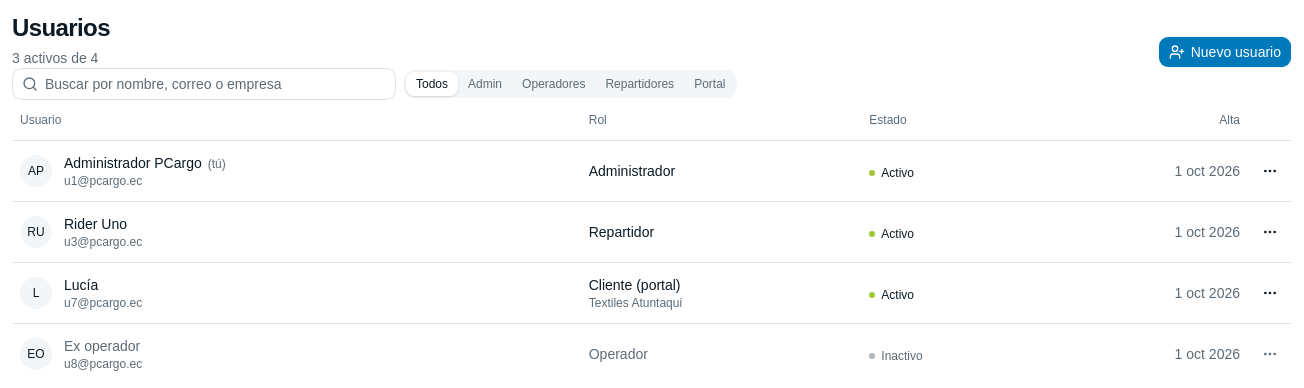
Test: UsuariosPage › lista los usuarios con rol, empresa del portal y estado, y filtra por rol
Expected: the text "Cliente (portal)" is shown, [589,276,680,292]
Expected: the text "Textiles Atuntaqui" is shown, [589,296,682,310]
Click the tab "Repartidores" at (640, 84), box [595,72,684,96]
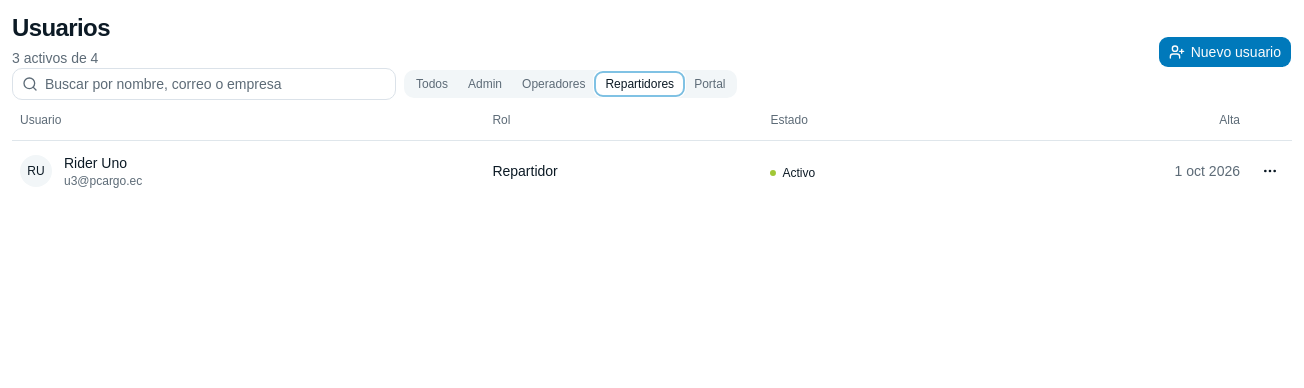
Expected: the row "RU Rider Uno u3@pcargo.ec Repartidor Activo 1 oct 2026" is shown, [12,140,1292,200]
Expected: the text "Lucía" is gone
